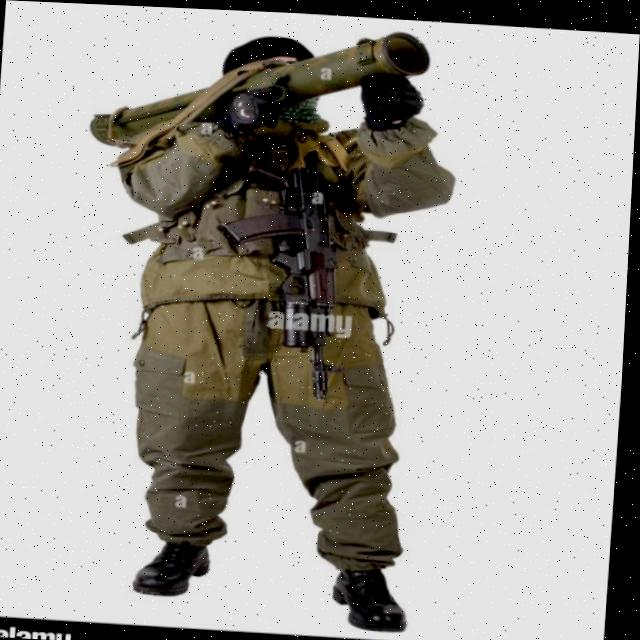rocket: (62, 4, 439, 147)
